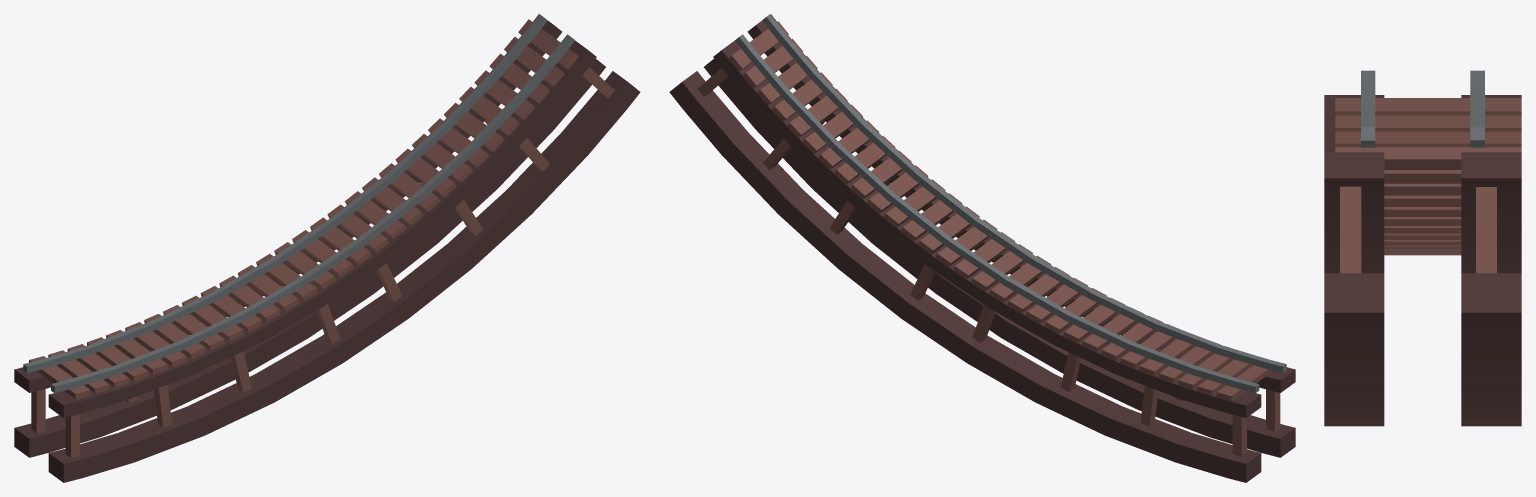
Rendered from DarkRoseWoodMechGentle0_96GaugeRise1.fbx.
3 views of the same model, side by side, from view 1: azimuth 30°, elevation 25°; view 2: azimuth 150°, elevation 25°; view 3: azimuth 270°, elevation 25° (orthographic). The views are drawn at different scales.
Parts seen in each view (by area): view 1: DarkRoseWoodMechGentle0_96GaugeRise1; view 2: DarkRoseWoodMechGentle0_96GaugeRise1; view 3: DarkRoseWoodMechGentle0_96GaugeRise1.
Part boxes in pixels (x1,y1,x2,y2): DarkRoseWoodMechGentle0_96GaugeRise1: (14, 14, 640, 482); DarkRoseWoodMechGentle0_96GaugeRise1: (669, 14, 1295, 482); DarkRoseWoodMechGentle0_96GaugeRise1: (1324, 70, 1521, 426).
Bounding box in the file's own units: 1491 × 774 × 221.
